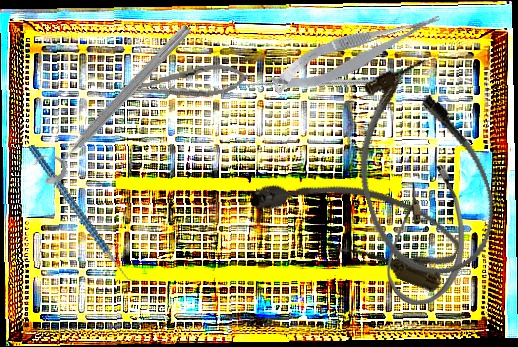Cannula: (333, 51, 510, 291), (244, 149, 468, 296), (387, 164, 464, 305)
Chopper: (27, 125, 144, 305)
Fixation Ring: (27, 11, 197, 190)
Hook Surgical: (221, 7, 403, 167)
Micro Scissor: (265, 6, 449, 100)
Needle Holder: (118, 60, 250, 106)
